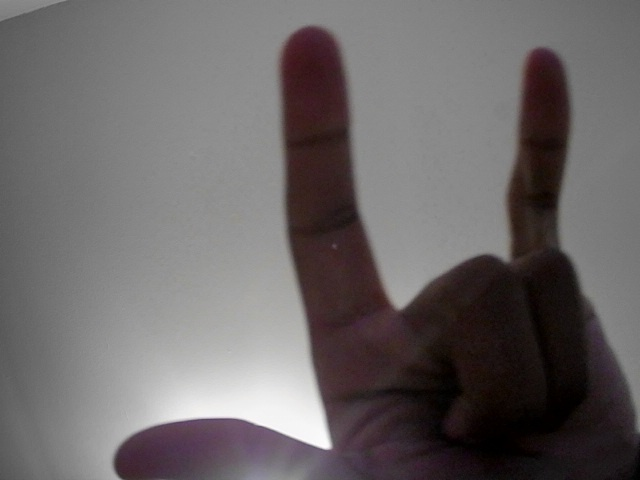ILoveYou: (78, 14, 640, 480)
